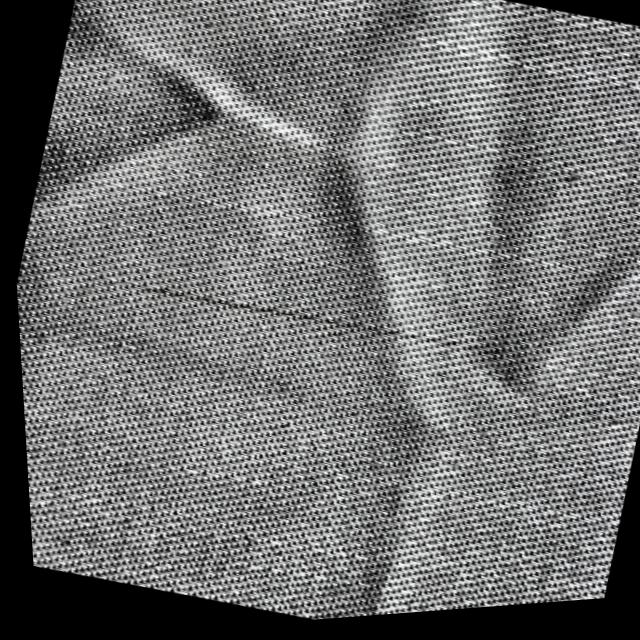Hole: (137, 263, 488, 383)
